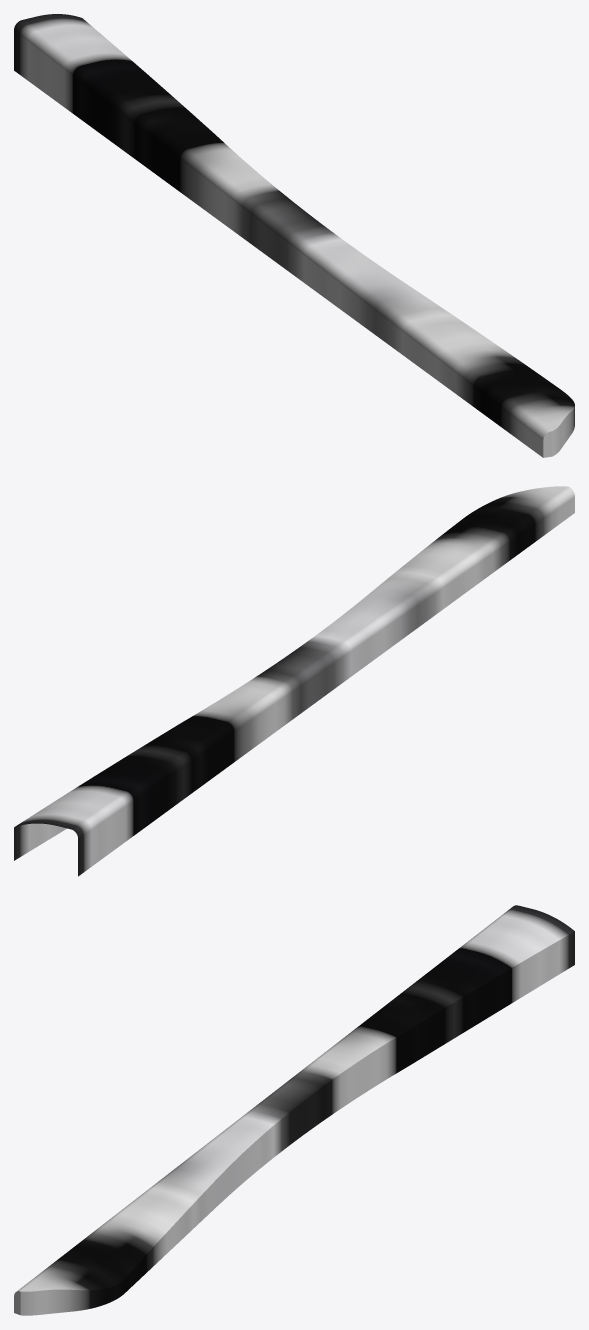
Rendered from original-30.obj.
3 views of the same model, one above another, from view 1: azimuth 30°, elevation 25°; view 2: azimuth 150°, elevation 25°; view 3: azimuth 330°, elevation 25° (orthographic). The views are drawn at different scales.
Visible parts, largest first — view 1: #ID172; view 2: #ID172; view 3: #ID172.
Part boxes in pixels (x1,y1,x2,y2): #ID172: (14,14,574,457); #ID172: (14,486,574,876); #ID172: (14,905,574,1315).
Size of the model in its own units: 0.0525 by 0.0356 by 0.7057.
